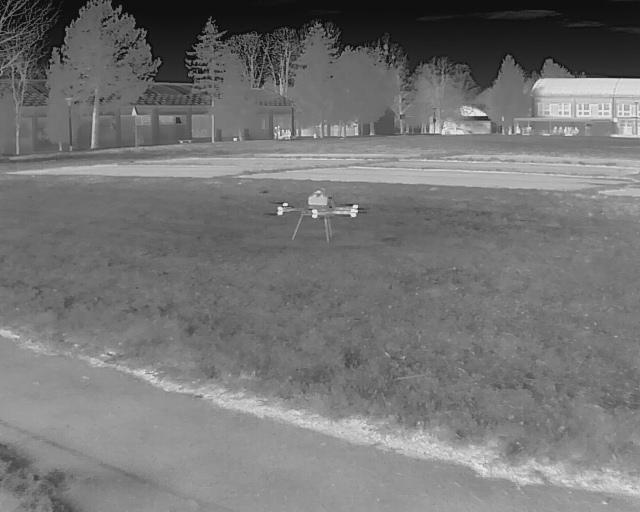drone: (270, 189, 357, 238)
